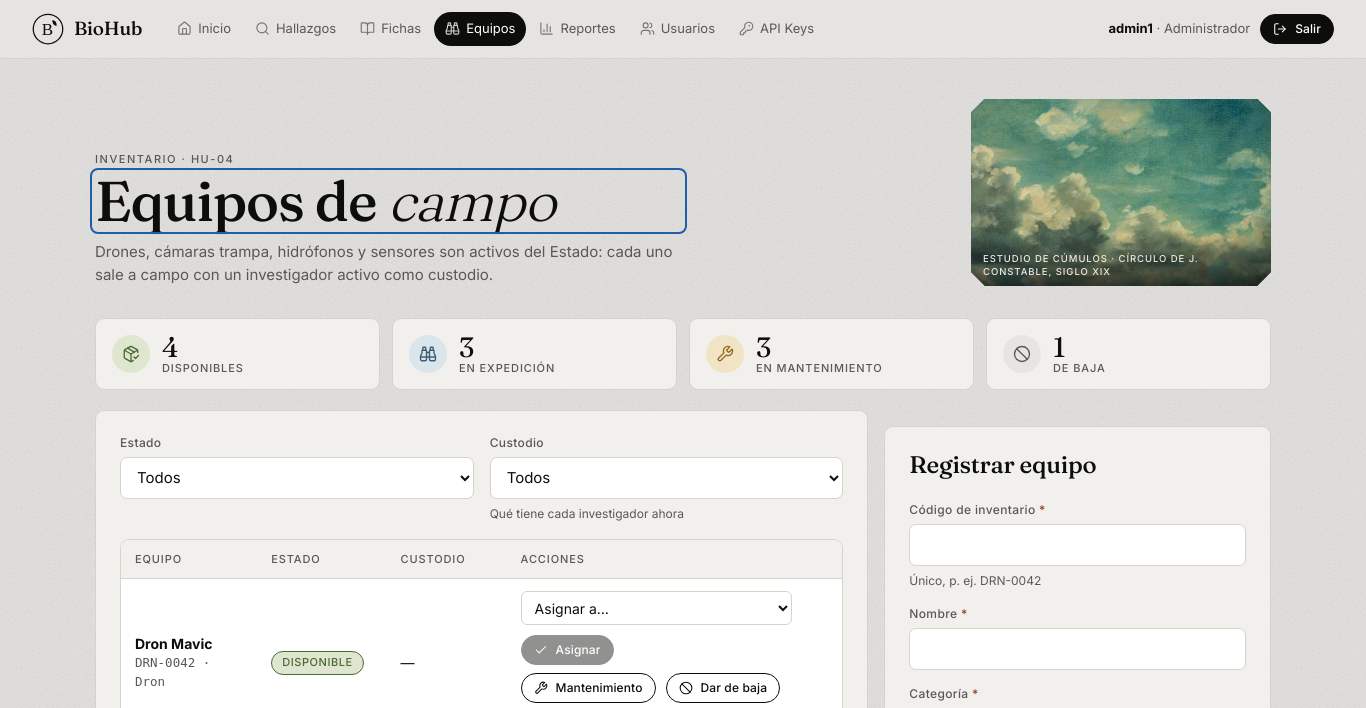
Equipos de campo (HU-04) › registra un equipo con su custodio obligatorio y muestra el error del servidor si el código ya existe
Step 1. Type "DRN-0042" into the field labelled "Código de inventario *" → (1078, 545), box [909,524,1246,566]
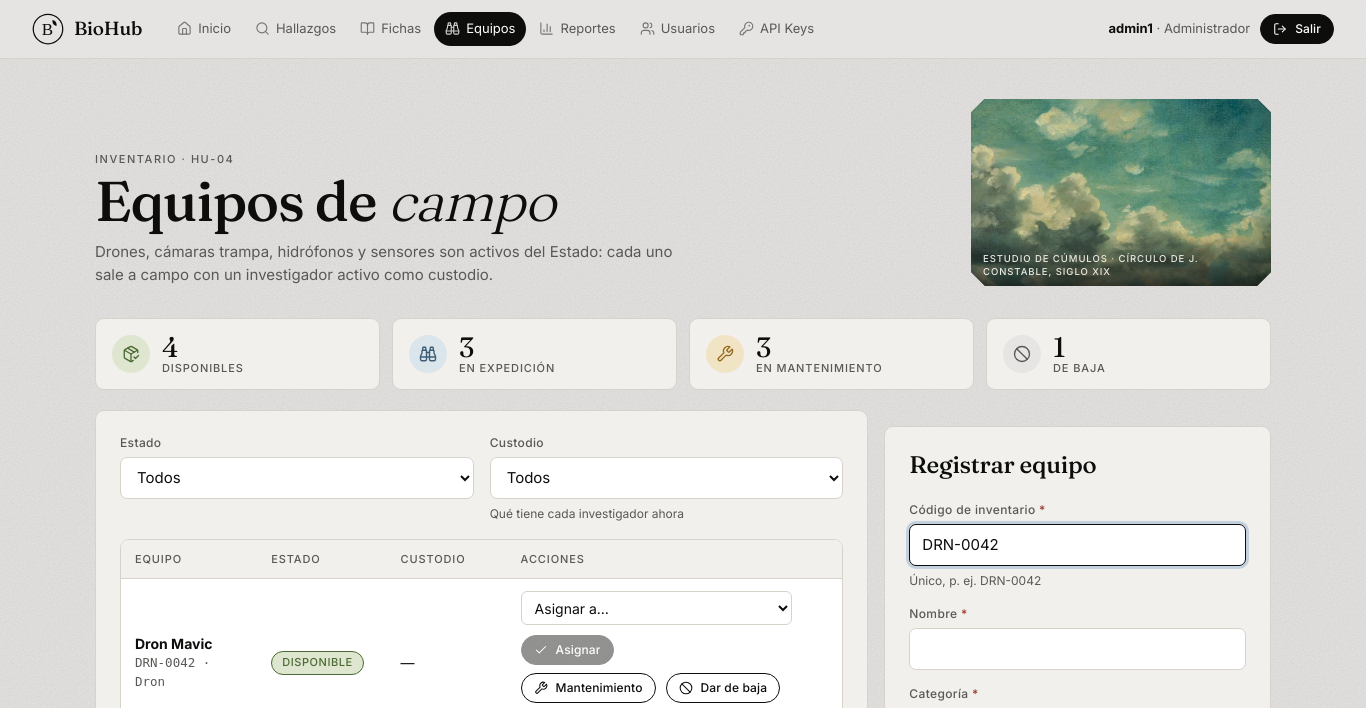
Step 2. Type "Otro dron" into the field labelled "Nombre *" → (1078, 649), box [909,628,1246,670]
(page scrolled)
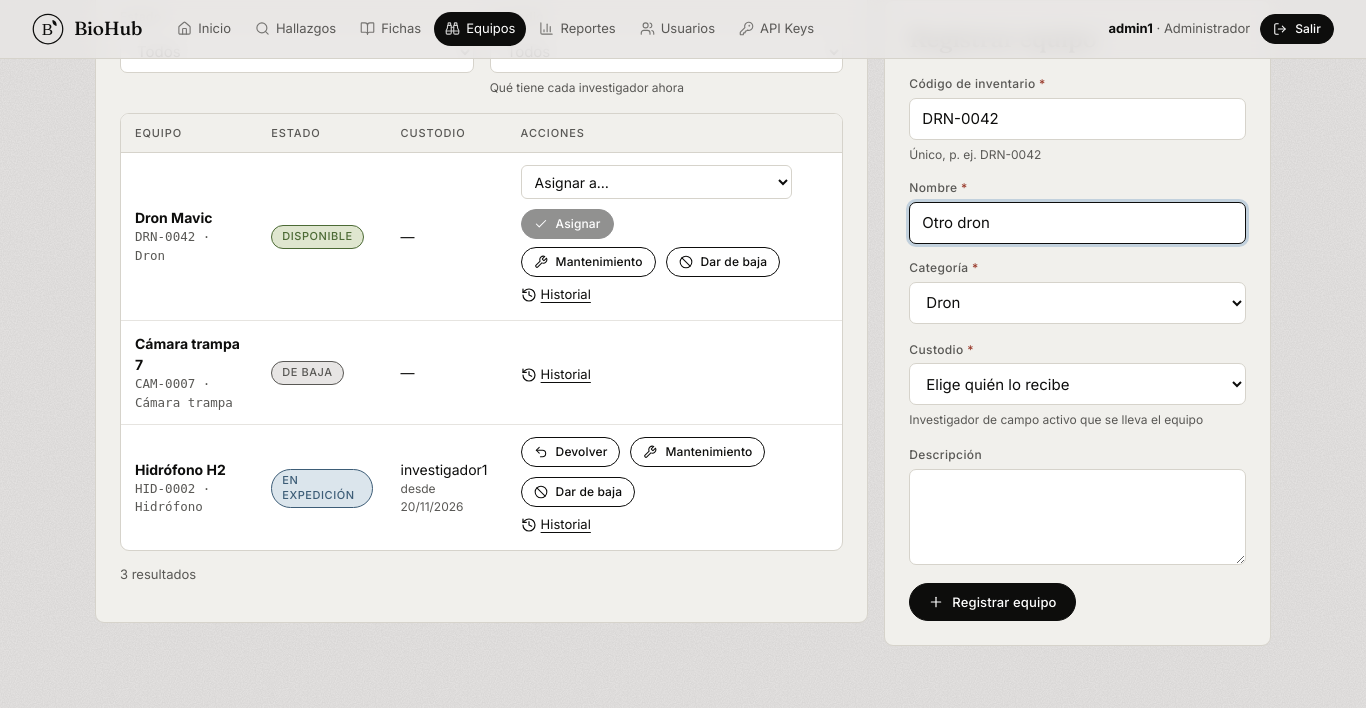
Step 3. Select "Ivana Investigadora (investigador1)" in the dropdown labelled "Custodio *" → (1078, 384), box [909,364,1246,406]
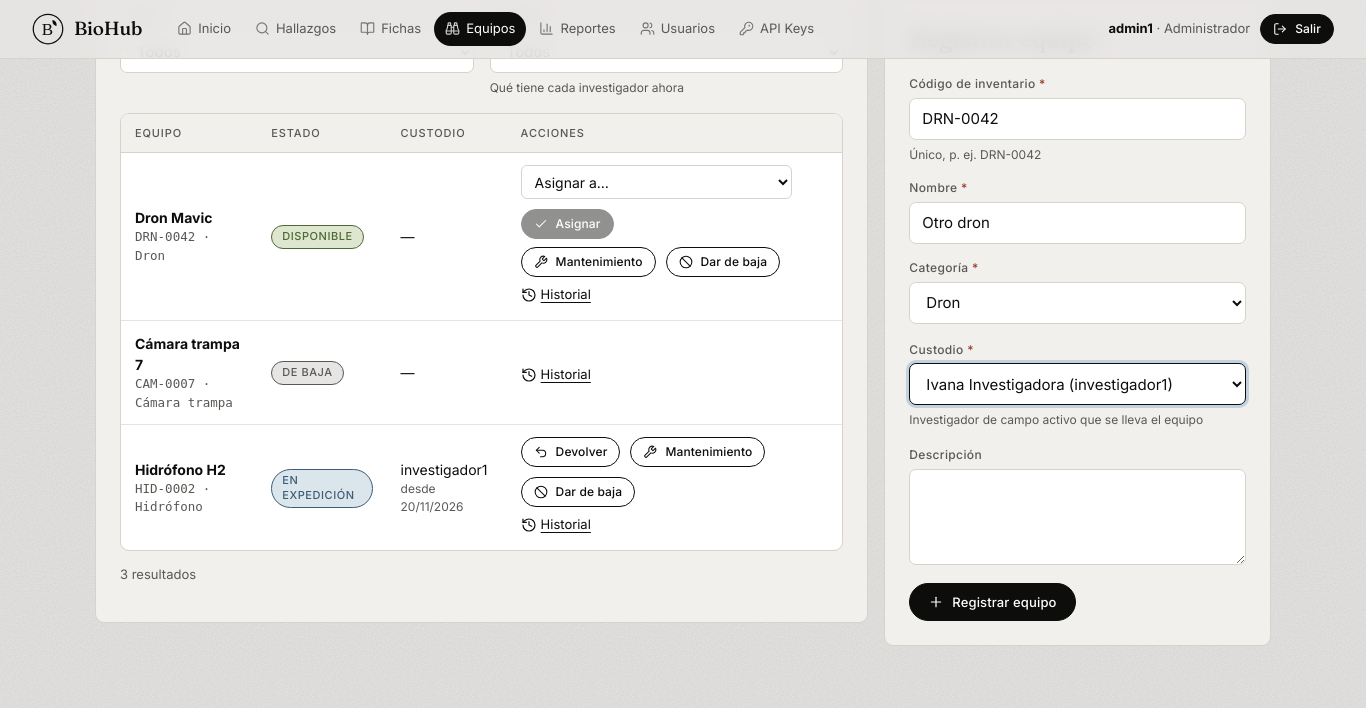
Step 4. Click the button "Registrar equipo" → (992, 602), box [909,583,1076,621]
(page scrolled)
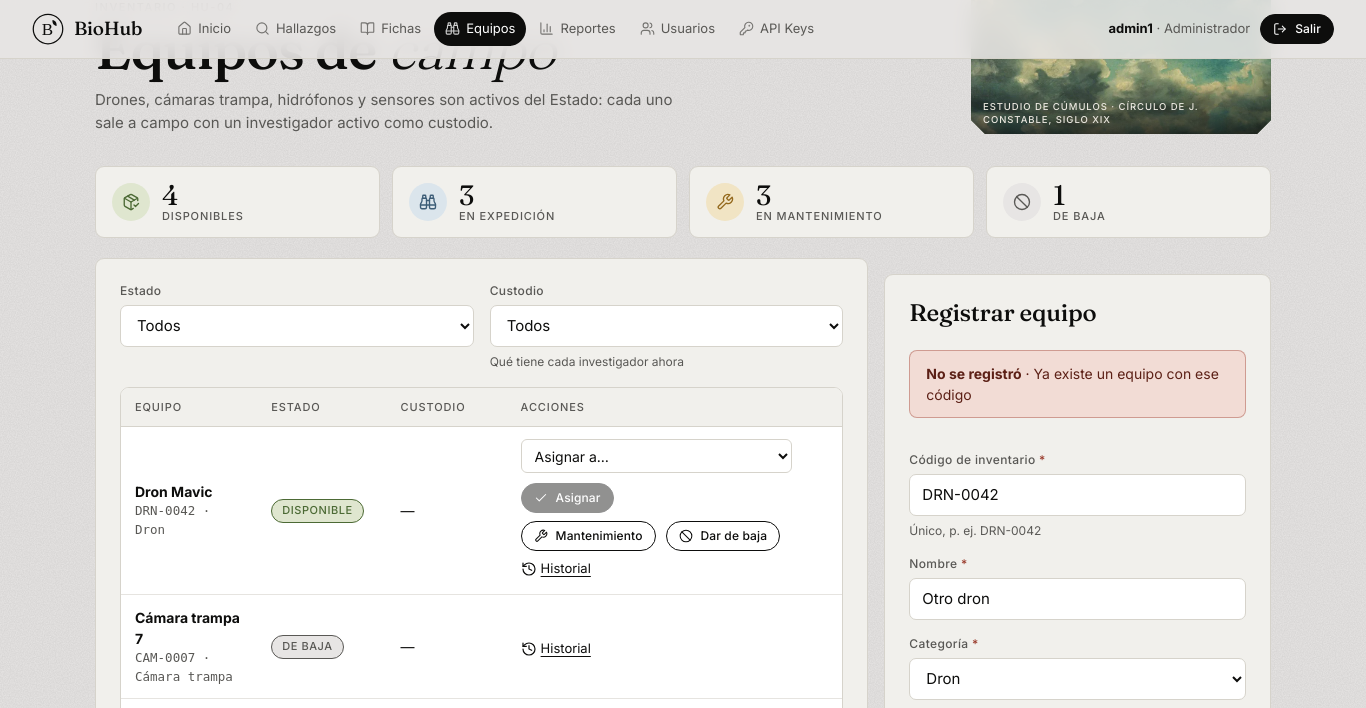
Expected: the message shows "Ya existe un equipo con ese código", [926,365,1219,403]
